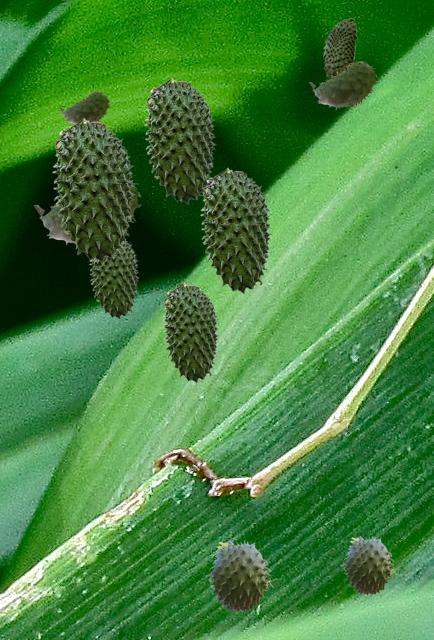guyabano: (52, 117, 134, 262), (200, 167, 271, 293), (144, 77, 215, 203), (34, 179, 140, 248), (162, 282, 218, 382), (205, 539, 276, 611), (89, 237, 138, 318), (340, 535, 398, 594), (309, 61, 376, 109), (323, 18, 356, 78), (59, 91, 109, 123)
